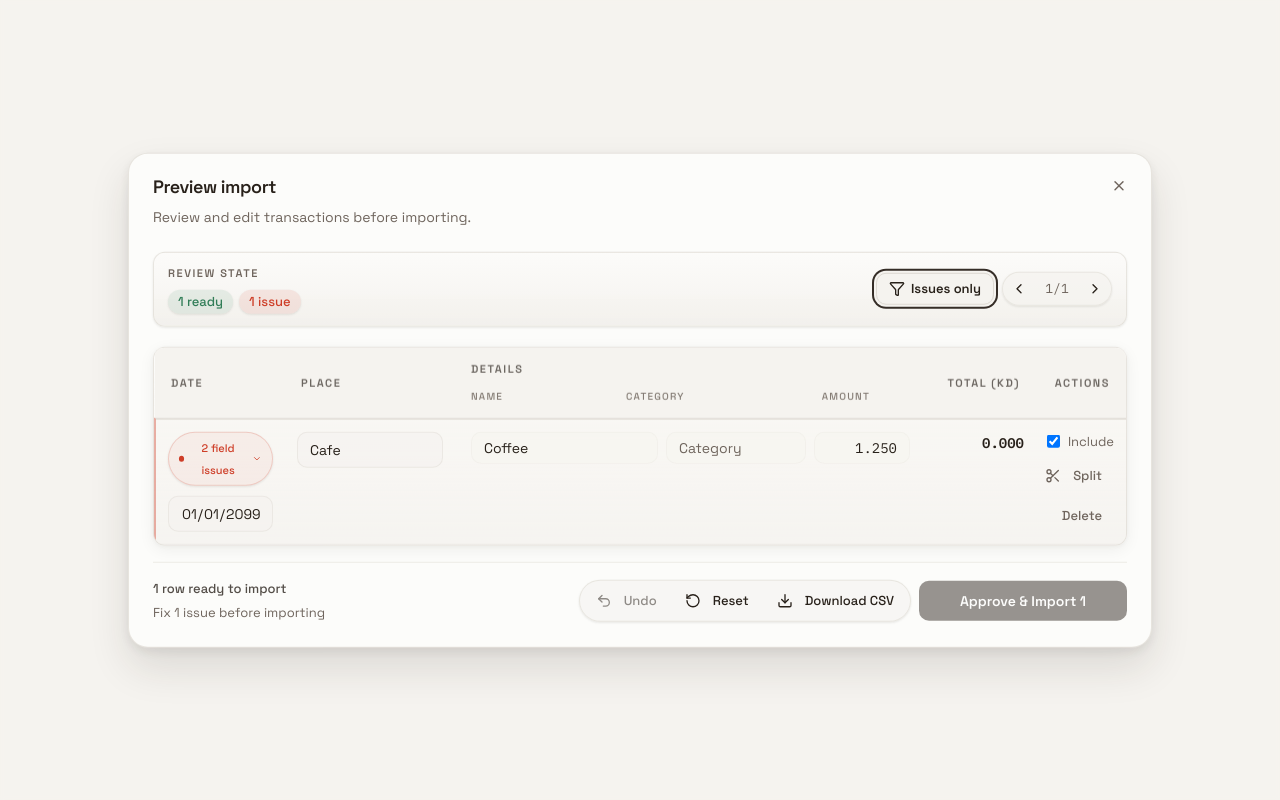
it: PreviewImportDialog › blocks import and shows specific row issues for incomplete preview rows
Expected: the text "1 issue" is shown, [239, 289, 300, 313]
Expected: the text "2 field issues" is shown, [201, 440, 235, 476]
Click the button with aria-label "Issue details".
click(220, 458)  # box [168, 431, 273, 485]
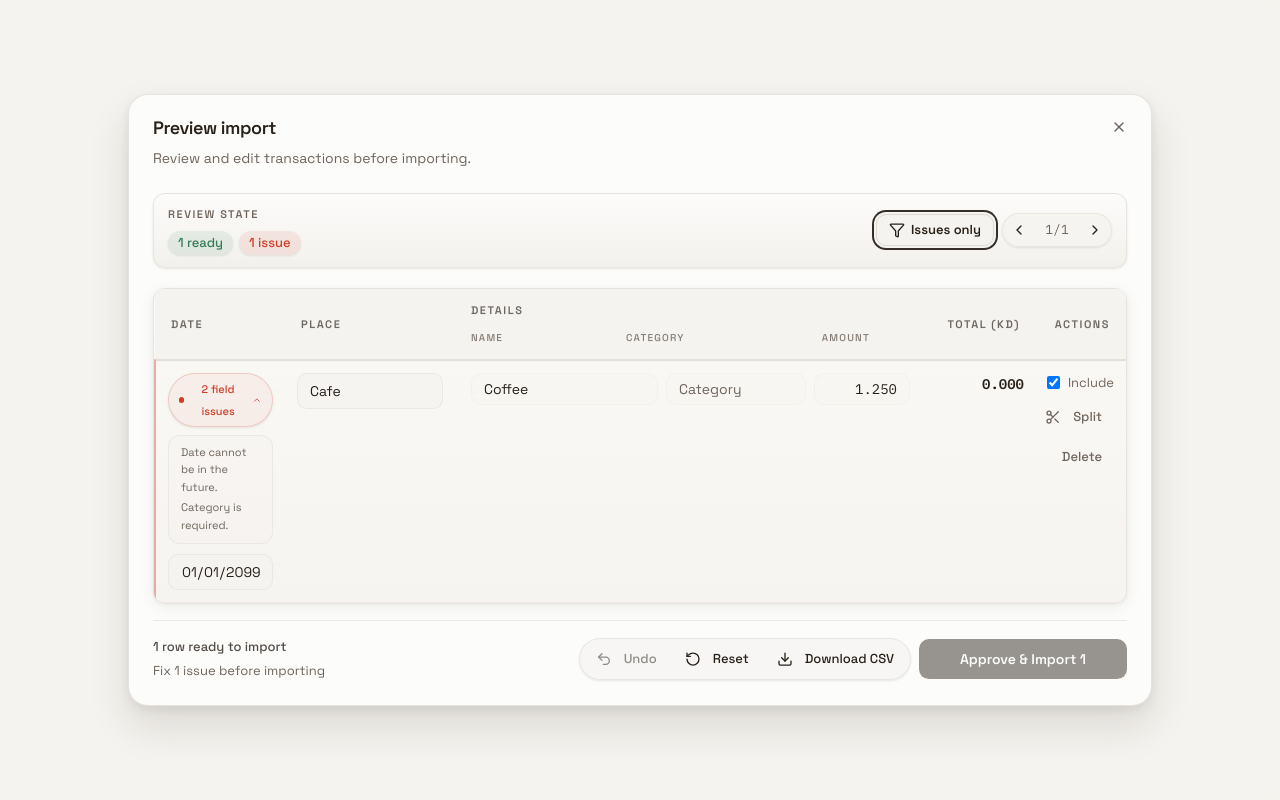
Expected: the button "Approve & Import 1" is disabled, [919, 639, 1127, 679]
Result: the text "Date cannot be in the future." is shown at [181, 445, 246, 494]
Result: the text "Category is required." is shown at [181, 500, 242, 532]
